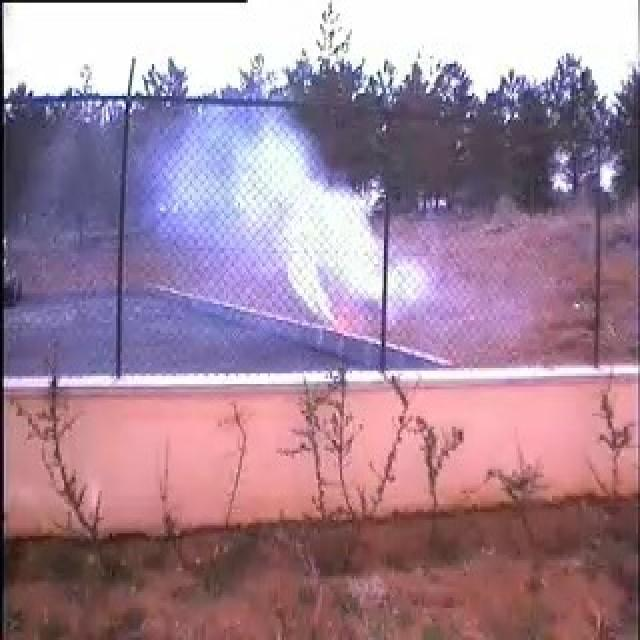Smoke: (126, 90, 427, 359)
